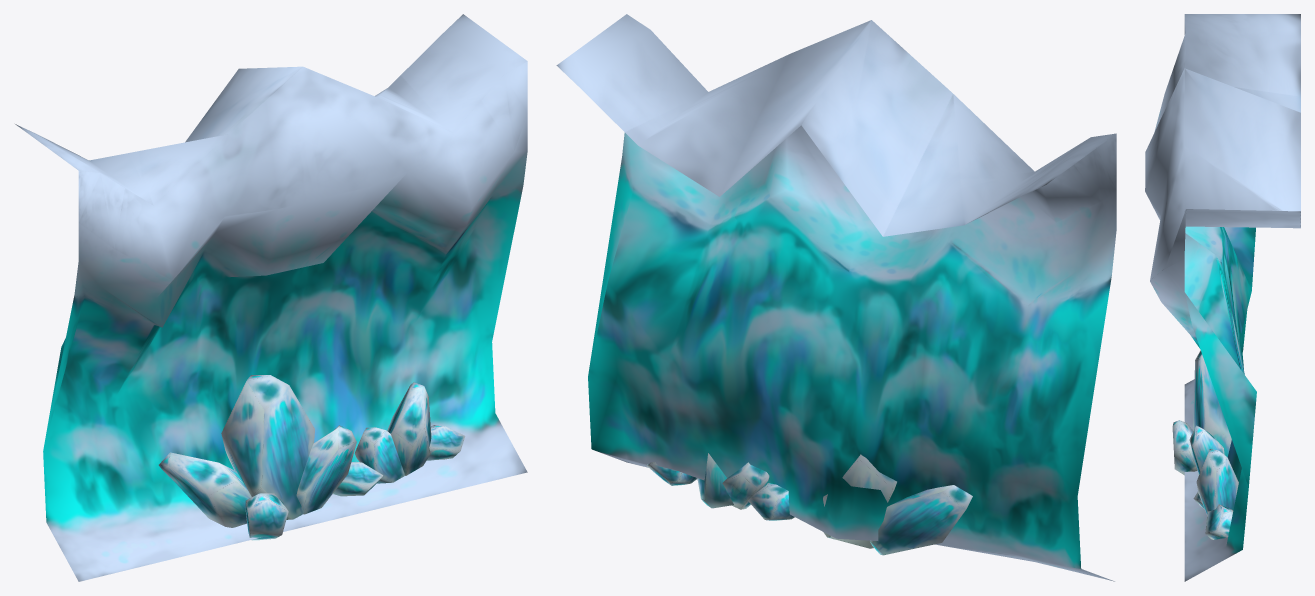
File: wall-ice.fbx
3 renders of one model, left to right at view 1: azimuth 30°, elevation 25°; view 2: azimuth 150°, elevation 25°; view 3: azimuth 270°, elevation 25°, orthographic. The views are drawn at different scales.
Parts seen in each view (by area): view 1: wall_ice; view 2: wall_ice; view 3: wall_ice.
Boxes of the visible parts, bbox=[...] form: wall_ice: bbox=[15, 14, 527, 581]; wall_ice: bbox=[556, 14, 1116, 581]; wall_ice: bbox=[1145, 14, 1300, 581].
Bounding box in the file's own units: 300 × 300 × 100.
